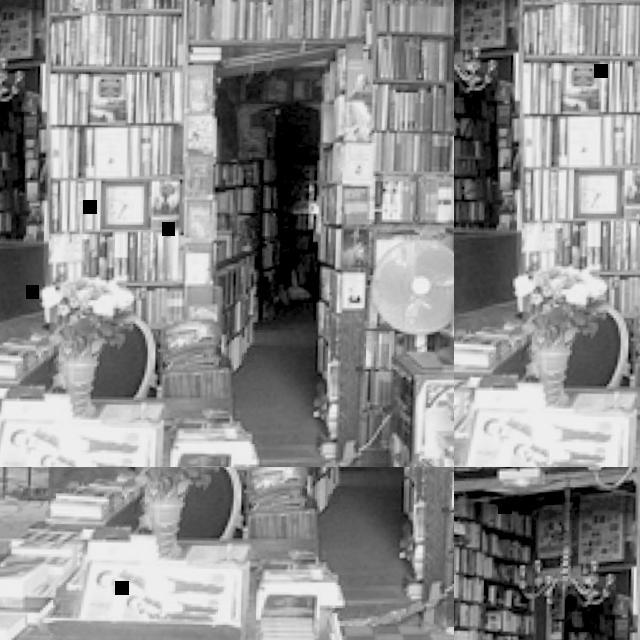helmet: (374, 467, 454, 548)
